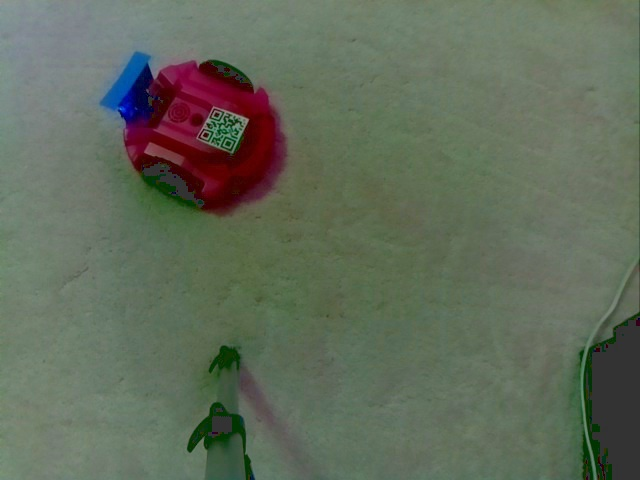board: (95, 51, 161, 126)
chassis: (93, 51, 289, 209)
